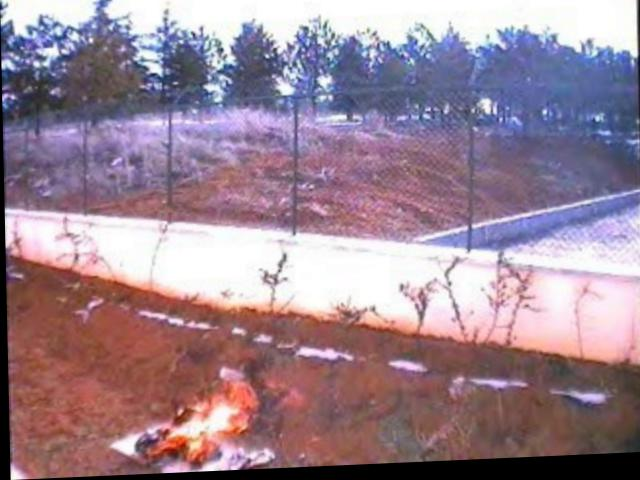fire: (118, 354, 294, 474)
